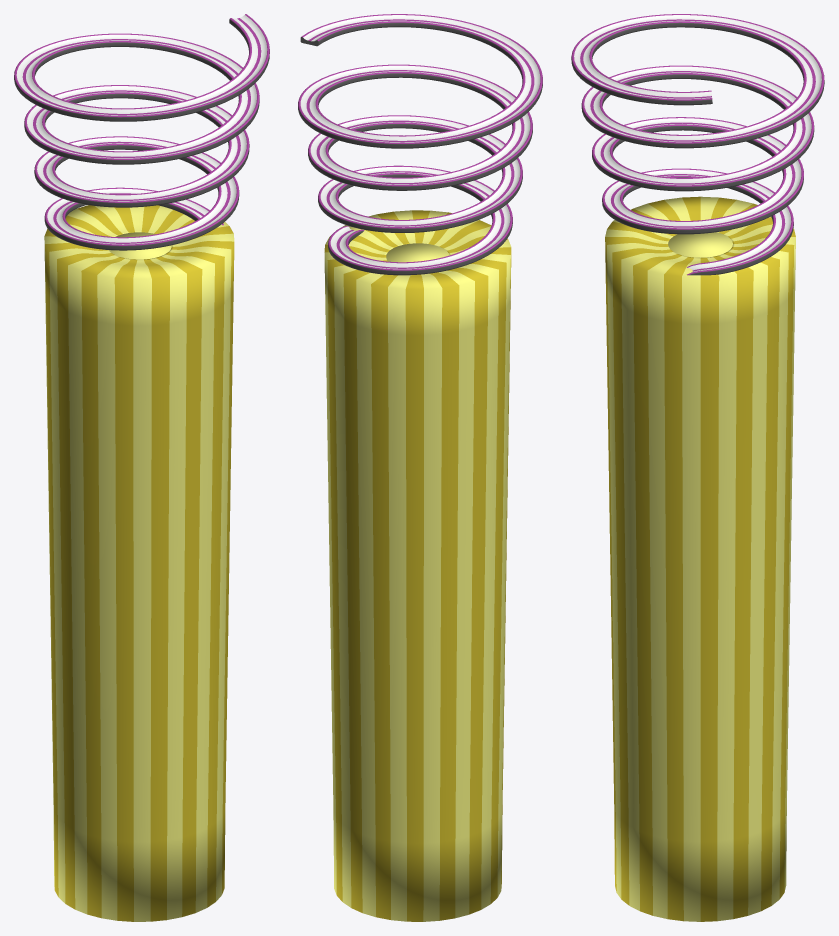
File: intro_track.fbx
The picture shows the model from 3 angles, left to right: view 1: azimuth 30°, elevation 25°; view 2: azimuth 150°, elevation 25°; view 3: azimuth 270°, elevation 25°; orthographic projection.
Visible parts, largest first — view 1: Socle, SpiralUp, breakableCenter; view 2: Socle, SpiralUp, breakableCenter; view 3: Socle, SpiralUp, breakableCenter.
Boxes of the visible parts, x1,y1,x2,y2 form: Socle: (44,205,234,921); SpiralUp: (14,14,269,250); breakableCenter: (109,232,171,259); Socle: (324,210,511,921); SpiralUp: (298,14,542,275); breakableCenter: (386,243,449,262); Socle: (605,196,795,921); SpiralUp: (571,14,824,275); breakableCenter: (668,232,732,257).
Bounding box in the file's own units: 353 × 1270 × 346.
